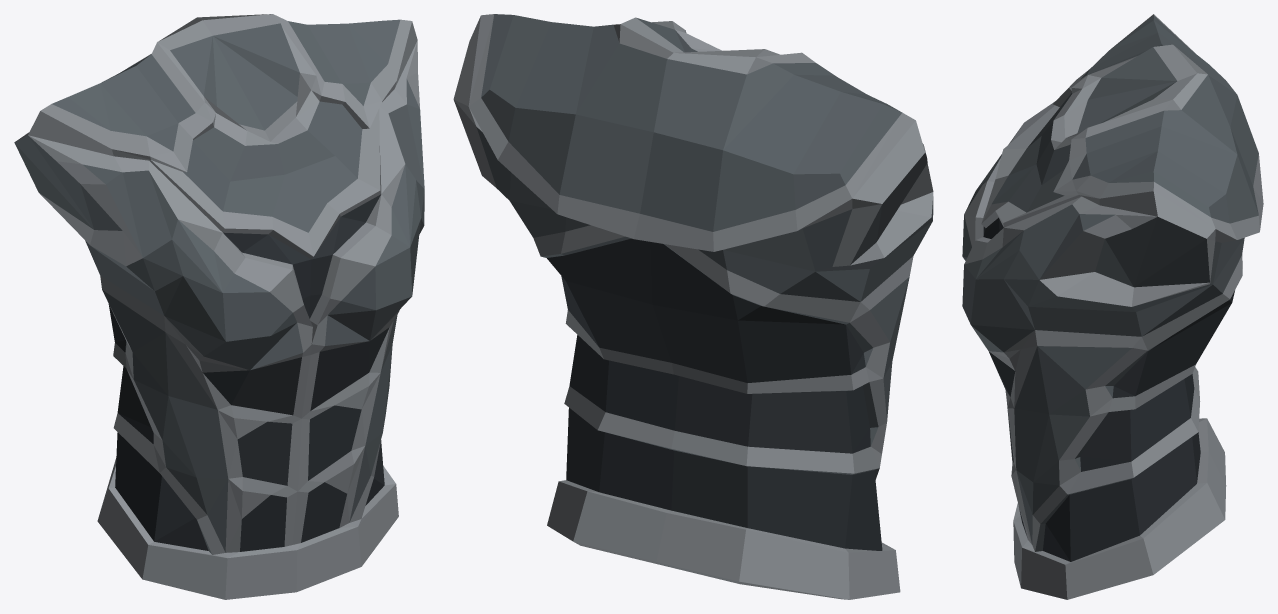
Rendered from Chr_Torso_Female_16_Static.fbx.
The picture shows the model from 3 angles, left to right: view 1: azimuth 30°, elevation 25°; view 2: azimuth 150°, elevation 25°; view 3: azimuth 270°, elevation 25°; orthographic projection. The views are drawn at different scales.
Visible parts, largest first — view 1: Chr_Torso_Female_16_Static; view 2: Chr_Torso_Female_16_Static; view 3: Chr_Torso_Female_16_Static.
Boxes of the visible parts, x1,y1,x2,y2 form: Chr_Torso_Female_16_Static: (14, 14, 424, 599); Chr_Torso_Female_16_Static: (453, 14, 933, 599); Chr_Torso_Female_16_Static: (962, 14, 1263, 599).
Size of the model in its own units: 0.5172 by 0.6394 by 0.3562.
